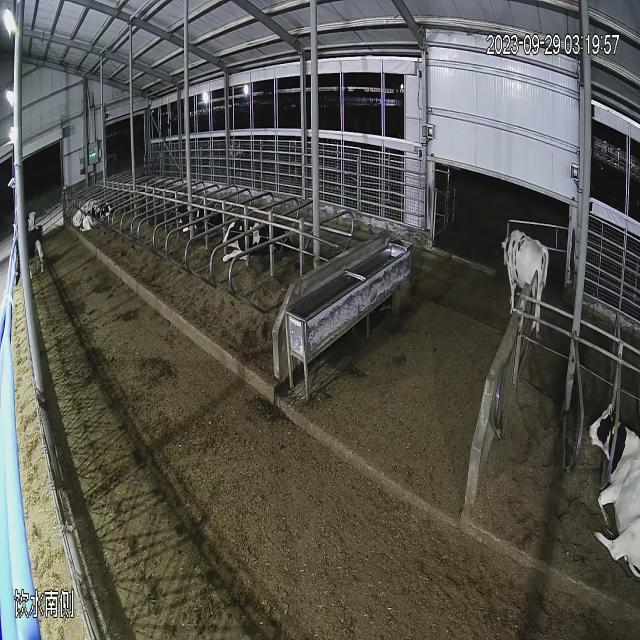feeding: (10, 218, 46, 291)
lying down: (581, 382, 640, 588), (211, 207, 299, 264), (162, 185, 214, 232), (67, 190, 108, 240)
standing: (496, 210, 556, 338)
